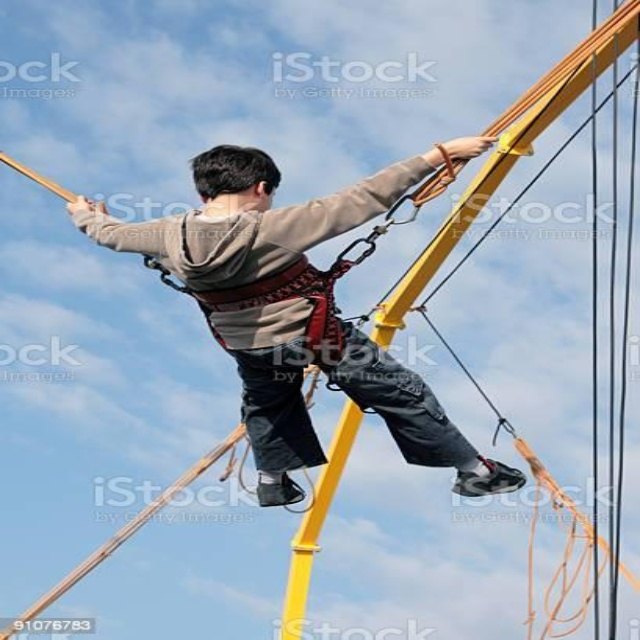Arnes_seguridad: (177, 256, 365, 371)
